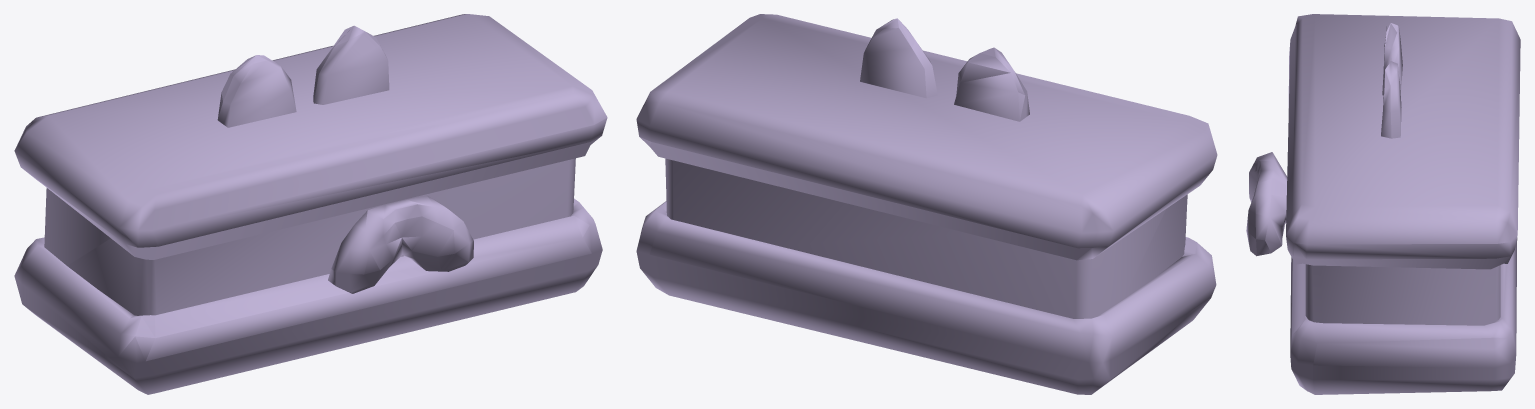
File: bedroom_jewelry_box.glb
3 views of the same model, side by side, from view 1: azimuth 30°, elevation 25°; view 2: azimuth 150°, elevation 25°; view 3: azimuth 270°, elevation 25° (orthographic). The views are drawn at different scales.
Bounding box in the file's own units: 0.38 × 0.2092 × 0.2052.
